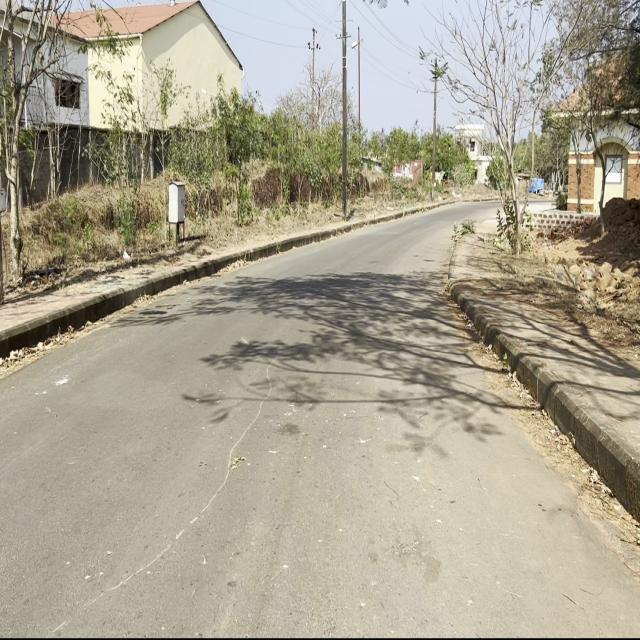Road: (3, 205, 637, 633)
